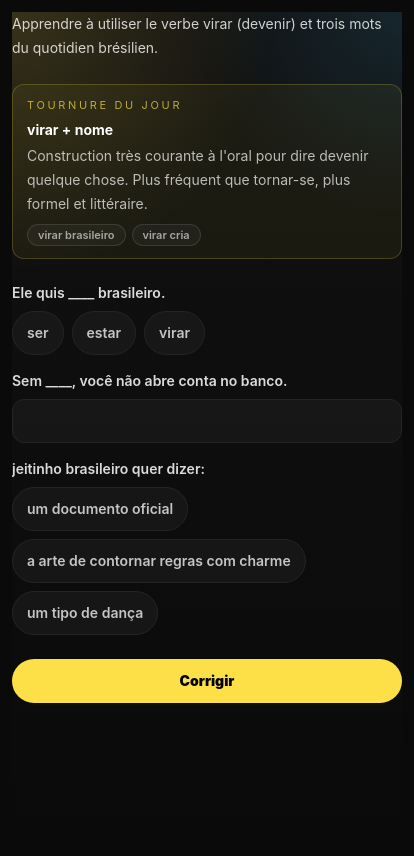
Test case: StudySheetPanel — Camarada Quer CPF › le résumé reste visible après correction, quel que soit le score
Expected: the text "Apprendre à utiliser le verbe virar" is shown, top-left (12, 15), bottom-right (382, 56)
Note: Aucune réponse donnée du tout — score nul.
Click the button "Corrigir". click: (207, 681)
box: top-left (12, 659), bottom-right (402, 703)
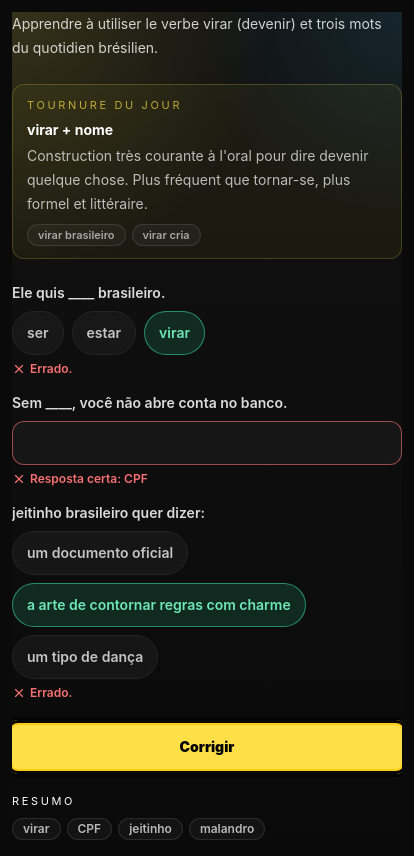
Now the heading "Resumo" is shown, box top-left (12, 794), bottom-right (75, 808)
Now the text "CPF" is shown, box top-left (66, 818), bottom-right (112, 840)
Now the text "jeitinho" is shown, box top-left (118, 818), bottom-right (183, 840)
